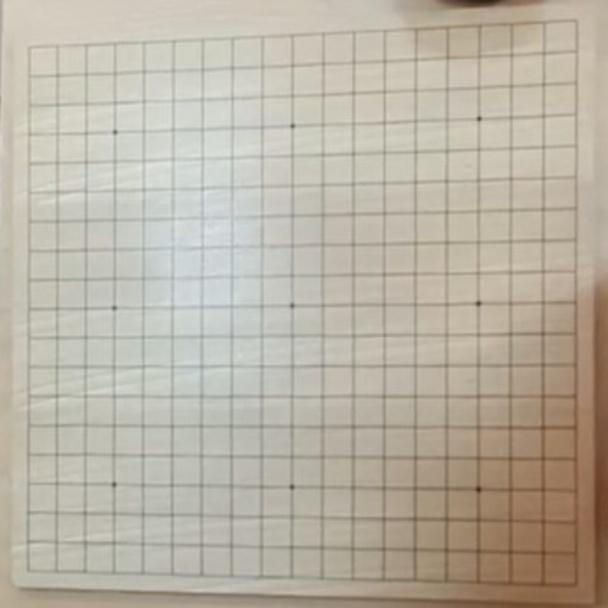corners: (546, 3, 598, 56), (546, 551, 593, 603), (13, 30, 56, 78), (16, 541, 56, 589)
